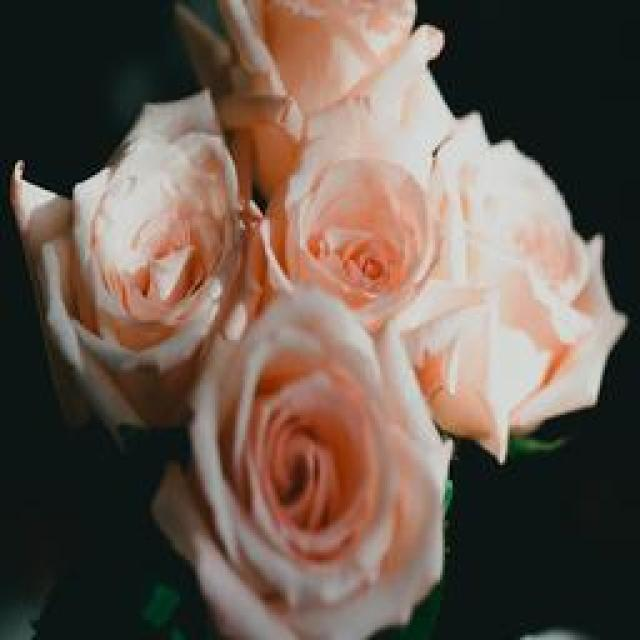rose: (175, 281, 467, 633)
